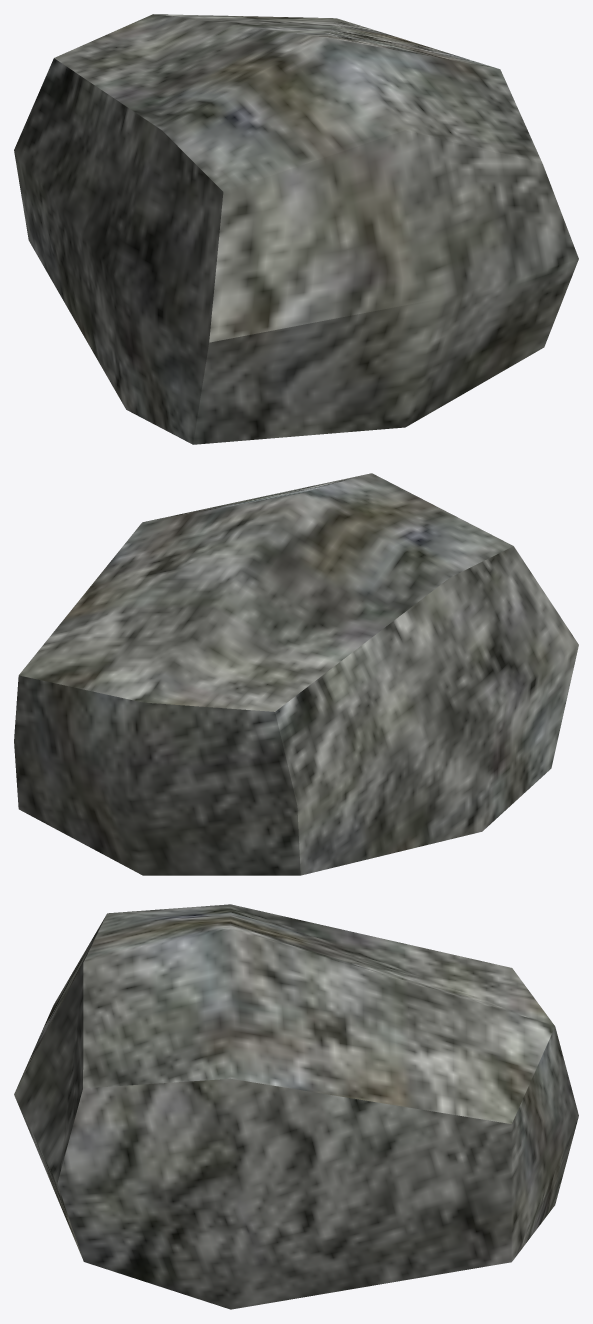
Rendered from Rock.fbx.
The picture shows the model from 3 angles, top to bottom: view 1: azimuth 30°, elevation 25°; view 2: azimuth 150°, elevation 25°; view 3: azimuth 270°, elevation 25°; orthographic projection. The views are drawn at different scales.
Visible parts, largest first — view 1: Cube.010; view 2: Cube.010; view 3: Cube.010.
Part boxes in pixels (left/top/right/bottom): Cube.010: left=14, top=14, right=578, bottom=444; Cube.010: left=14, top=473, right=578, bottom=875; Cube.010: left=14, top=904, right=578, bottom=1309.
Size of the model in its own units: 1441 by 909 by 1137.
